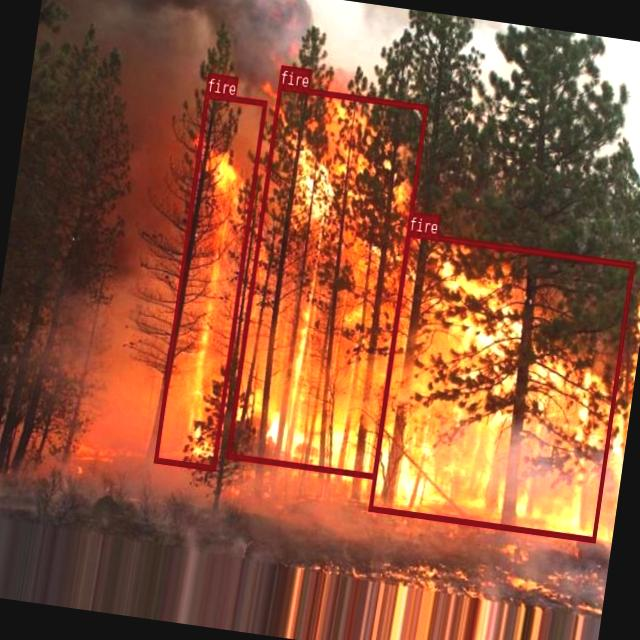fire: (368, 230, 634, 542), (226, 84, 427, 478), (154, 91, 266, 470)
